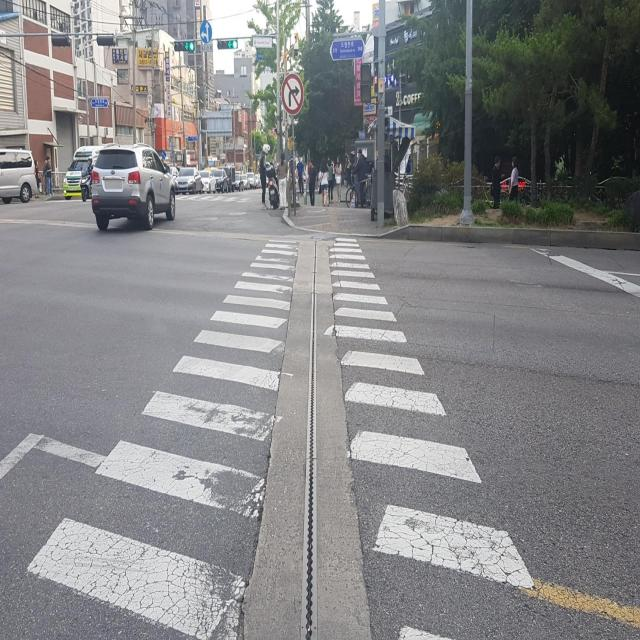횡단보도: (27, 236, 536, 640)
